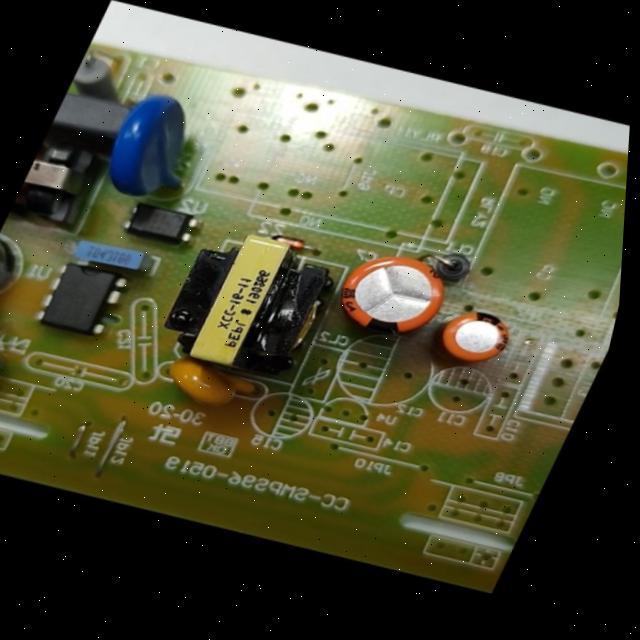Cap1: (309, 228, 474, 364)
Cap2: (418, 293, 533, 385)
Cap3: (0, 214, 52, 319)
Cap4: (0, 291, 10, 387)
MOSFET: (16, 236, 150, 355)
Mov: (80, 73, 229, 225)
Resistor: (63, 40, 147, 115)
Transformer: (132, 198, 368, 408), (0, 117, 133, 254)
